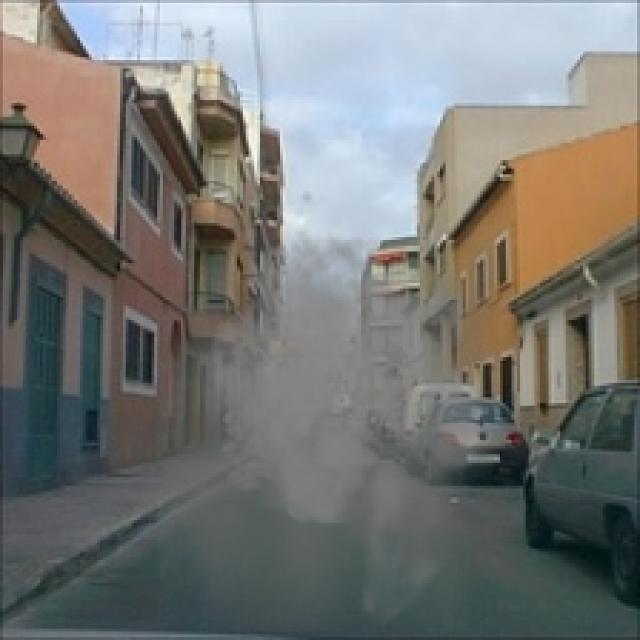smoke: (154, 226, 500, 631)
